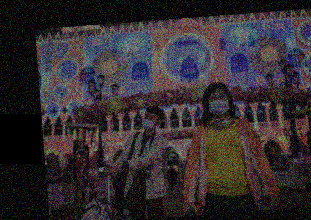with_mask: (206, 91, 231, 116), (140, 114, 160, 132)
